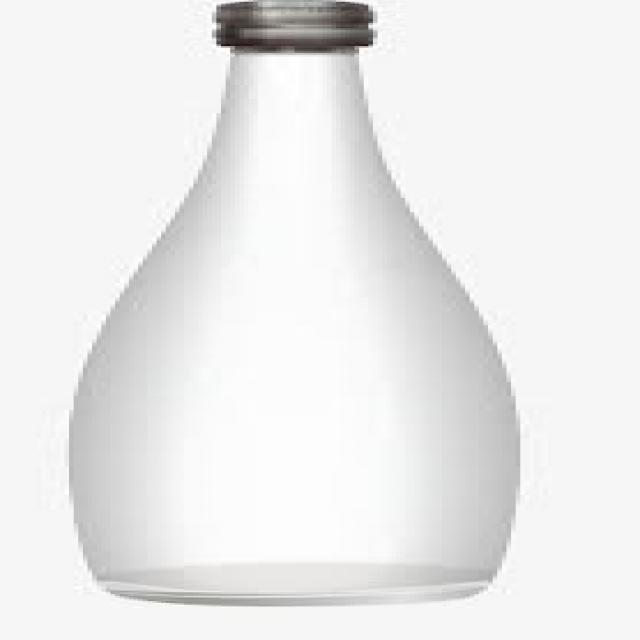Glass-Non-Biodegradable but Recyclable-: (62, 7, 521, 606)
